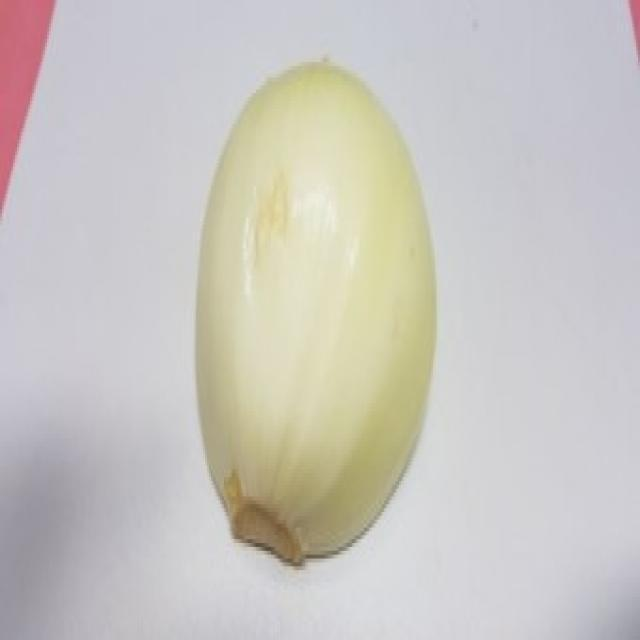onion: (191, 68, 444, 566)
